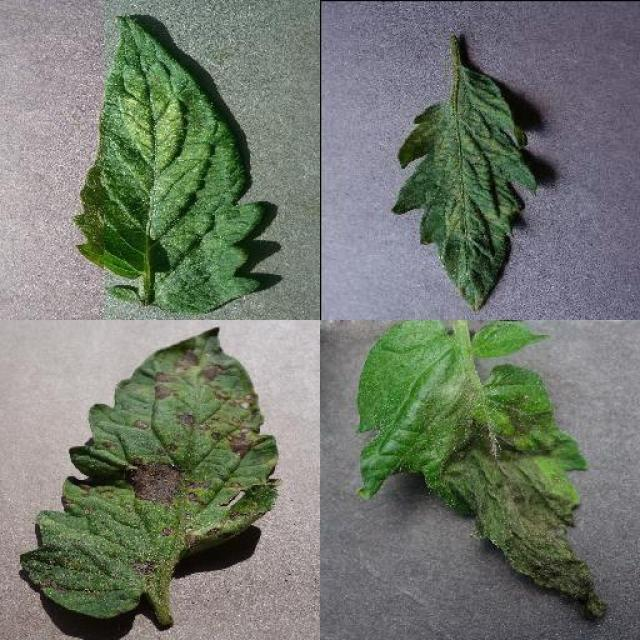Early Blight: (22, 324, 280, 621)
Late Blight: (356, 320, 612, 620)
